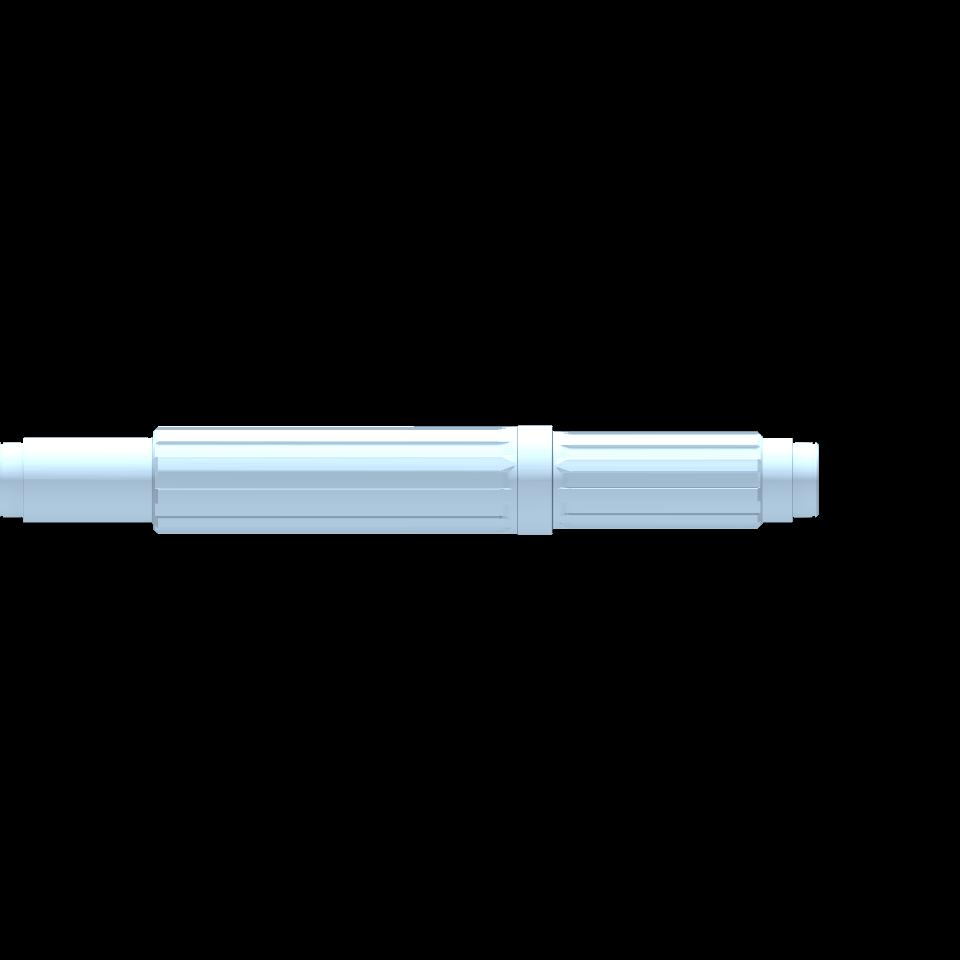Straight: (157, 427, 502, 532), (568, 431, 755, 528)
